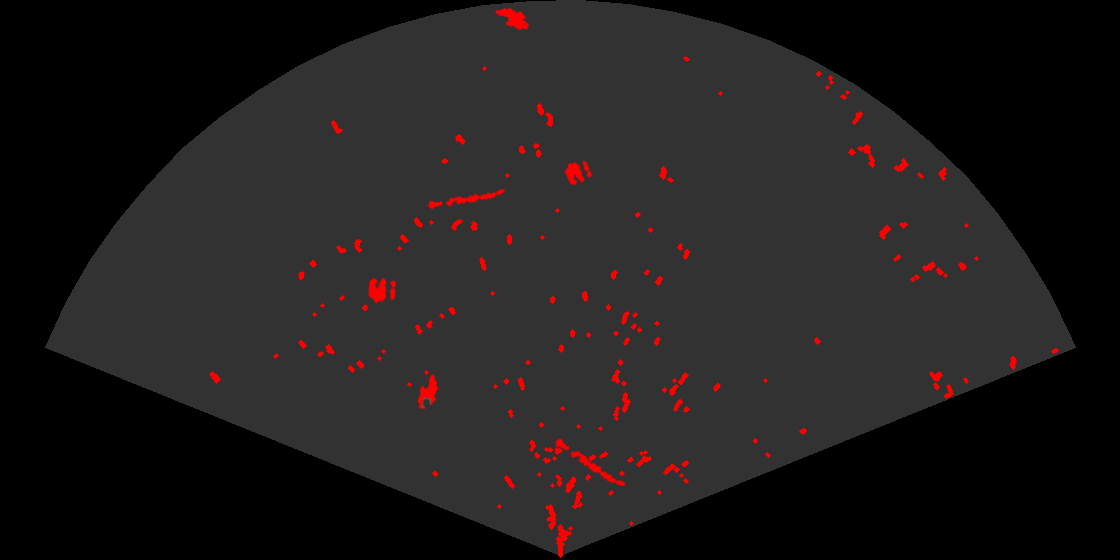AUV: (493, 6, 531, 32), (416, 372, 440, 411)
ball: (366, 276, 398, 305), (563, 159, 594, 187)
chain: (544, 432, 627, 488), (425, 187, 507, 211)
